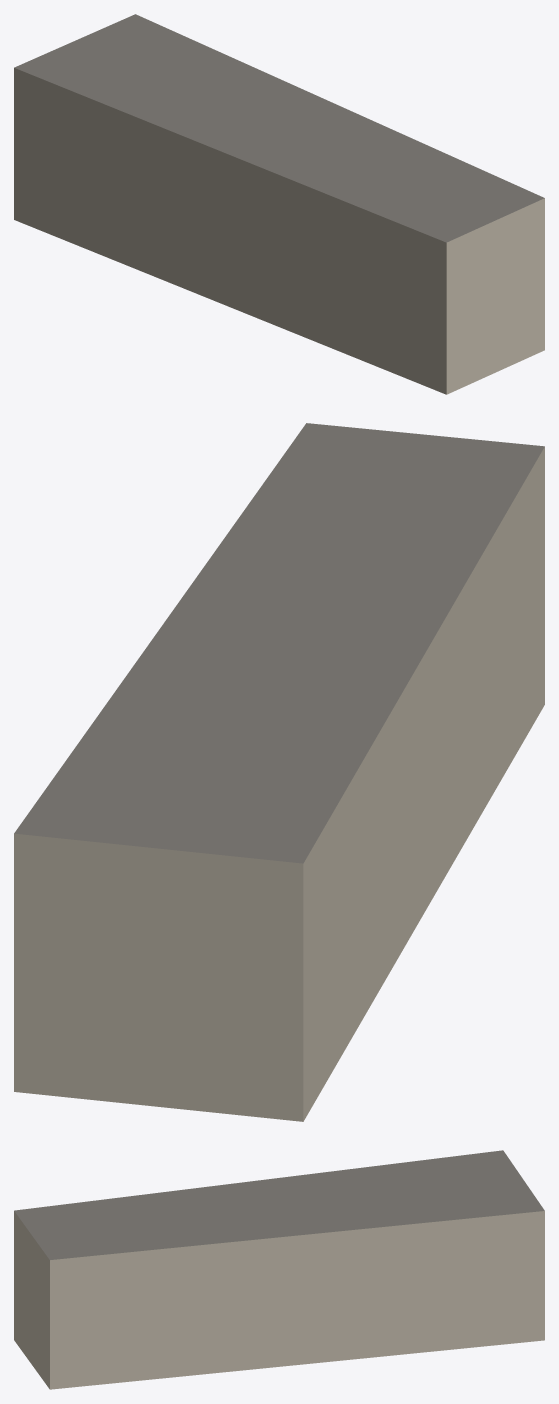
3 views of the same model, one above another, from view 1: azimuth 30°, elevation 25°; view 2: azimuth 150°, elevation 25°; view 3: azimuth 270°, elevation 25° (orthographic). The views are drawn at different scales.
Parts seen in each view (by area): view 1: HP-w1512495276; view 2: HP-w1512495276; view 3: HP-w1512495276.
Boxes of the visible parts, x1=… form: HP-w1512495276: x1=14, y1=14, x2=544, y2=394; HP-w1512495276: x1=14, y1=423, x2=544, y2=1121; HP-w1512495276: x1=14, y1=1150, x2=544, y2=1389.
Size of the model in its own units: 32.76 by 18 by 66.89.
